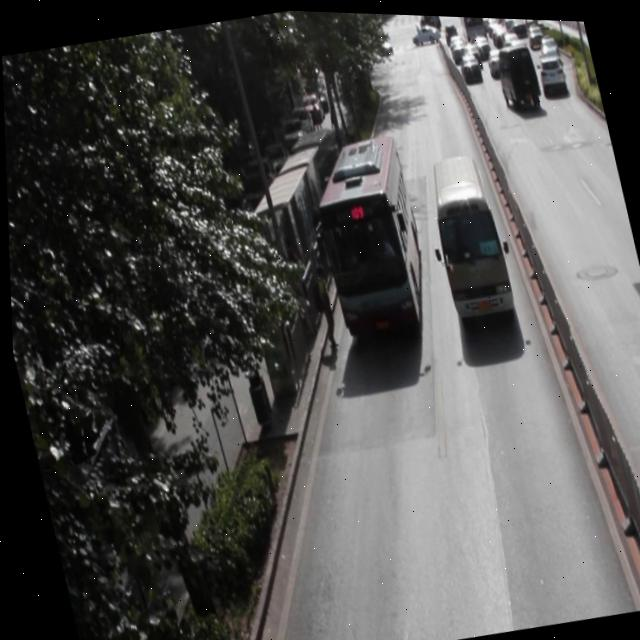truck: (416, 145, 515, 318)
van: (301, 128, 433, 336)
